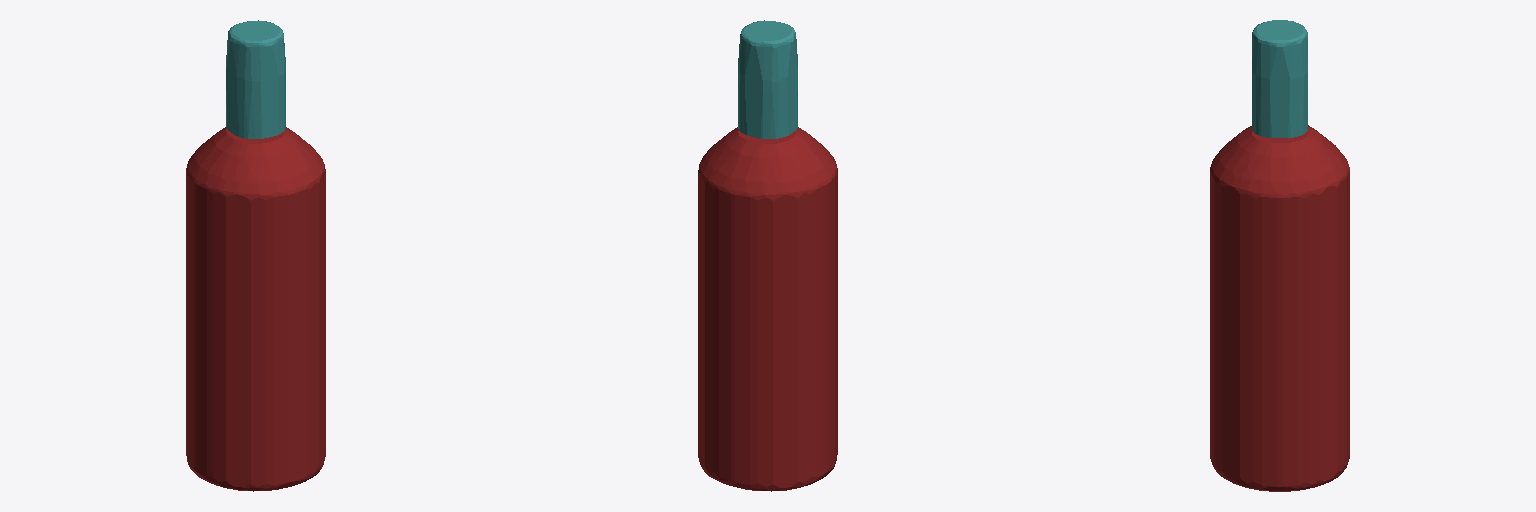
The robot description file, URDF, robot "root":
<robot name="root">
  <link name="bottle_body">
    <inertial>
      <origin xyz="0 0 0" rpy="0 0 0"/>
    </inertial>
    <mass value="1.00E-02"/>
    <visual>
      <origin xyz="0 0 0" rpy="0 0 0"/>
      <geometry>
        <mesh filename="core-bottle-22249179e88b0502846564a8a219239b-coacd_convex_piece_1.obj" scale="1.0000E-01 1.0000E-01 1.0000E-01"/>
      </geometry>
      <material name="">
        <color rgba="6.00E-01 2.00E-01 2.00E-01 1"/>
      </material>
    </visual>
    <collision>
      <origin xyz="0 0 0" rpy="0 0 0"/>
      <geometry>
        <mesh filename="core-bottle-22249179e88b0502846564a8a219239b-coacd_convex_piece_1.obj" scale="1.0000E-01 1.0000E-01 1.0000E-01"/>
      </geometry>
    </collision>
  </link>
  <link name="bottle_cap">
    <origin xyz="0 0 0.002" rpy="0 0 0"/>
    <mass value="1.00E-02"/>
    <visual>
      <origin xyz="0 0 0.002" rpy="0 0 0"/>
      <geometry>
        <mesh filename="core-bottle-22249179e88b0502846564a8a219239b-coacd_convex_piece_0.obj" scale="1.0000E-01 1.0000E-01 1.0000E-01"/>
      </geometry>
      <material name="">
        <color rgba="3.00E-01 6.00E-01 6.00E-01 1"/>
      </material>
    </visual>
    <collision>
      <origin xyz="0 0 0.002" rpy="0 0 0"/>
      <geometry>
        <mesh filename="core-bottle-22249179e88b0502846564a8a219239b-coacd_convex_piece_0.obj" scale="1.0000E-01 1.0000E-01 1.0000E-01"/>
      </geometry>
    </collision>
  </link>
  <joint name="bottle_cap_joint" type="revolute">
    <origin xyz="0 0 0" rpy="0 0 0"/>
    <parent link="bottle_body"/>
    <child link="bottle_cap"/>
    <axis xyz="0 0 1"/>
    <limit lower="0.00" upper="6.28"/>
    <dynamics damping="0.05"/>
  </joint>
</robot>

--- Render facts (derived) ---
The picture shows the robot from 3 angles, left to right: view 1: azimuth 30°, elevation 25°; view 2: azimuth 150°, elevation 25°; view 3: azimuth 270°, elevation 25°; orthographic projection.
Model root with 2 links and 1 joints (1 revolute), rooted at bottle_body, posed all joints at 0.
Links seen in each view (by area): view 1: bottle_body, bottle_cap; view 2: bottle_body, bottle_cap; view 3: bottle_body, bottle_cap.
Boxes of the visible links, x1,y1,x2,y2 form: bottle_body: (186, 127, 325, 491); bottle_cap: (226, 20, 285, 138); bottle_body: (698, 127, 837, 491); bottle_cap: (738, 20, 797, 138); bottle_body: (1210, 125, 1349, 491); bottle_cap: (1252, 20, 1307, 137).
Size in the robot's own frame: 0.0557 by 0.0557 by 0.1919 metres.
Meshes: 2 distinct files referenced, 2 mesh visuals loaded (2 OBJ).